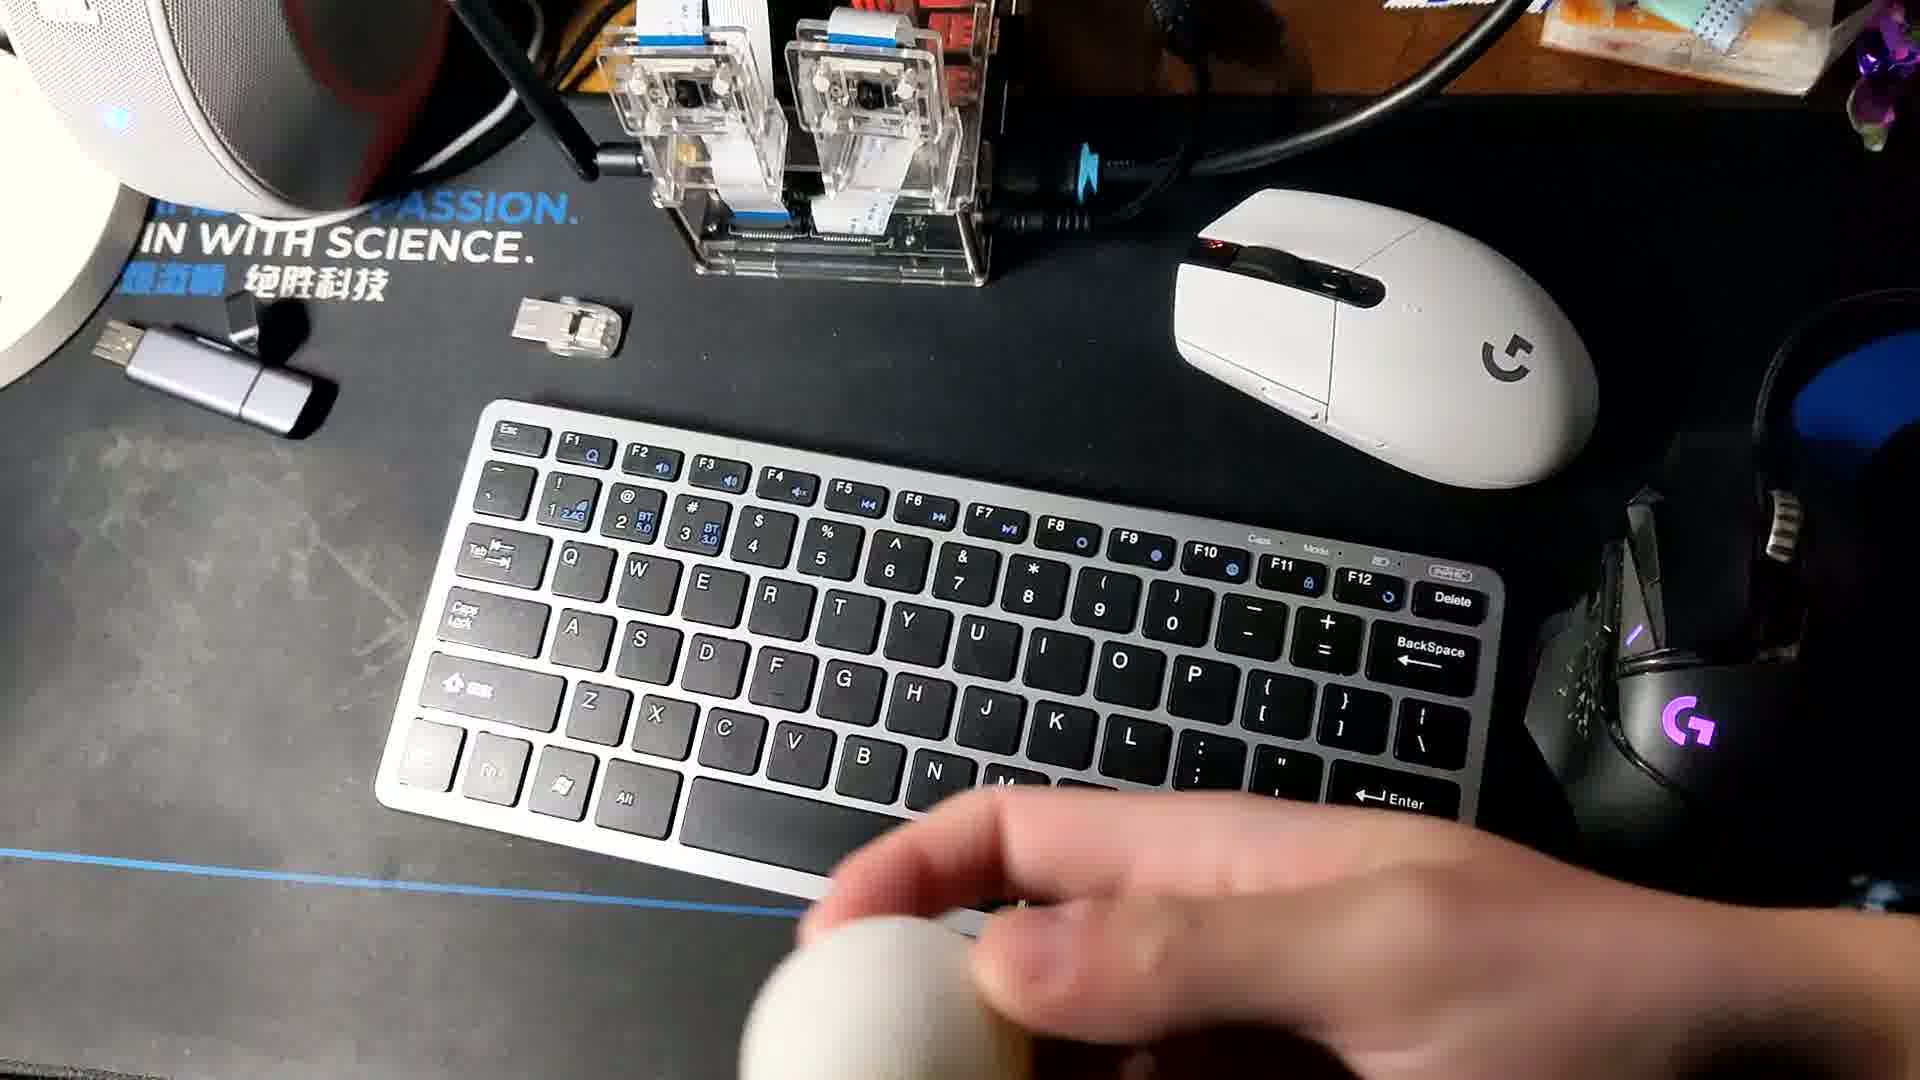Ball: (727, 911, 1046, 1080)
